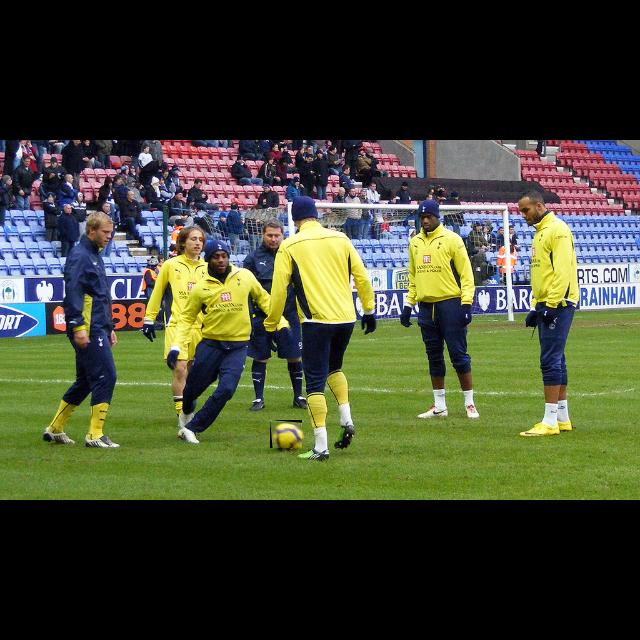Football: (270, 420, 302, 448)
